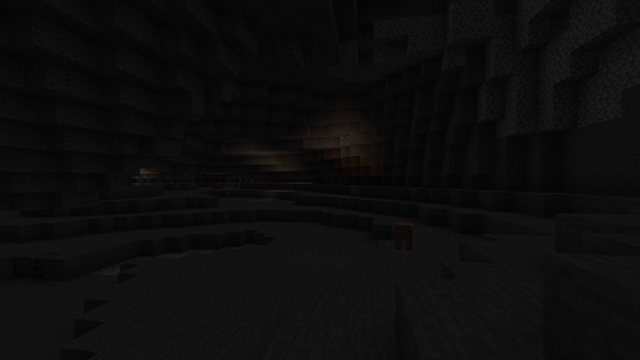cochons: (391, 221, 418, 249)
